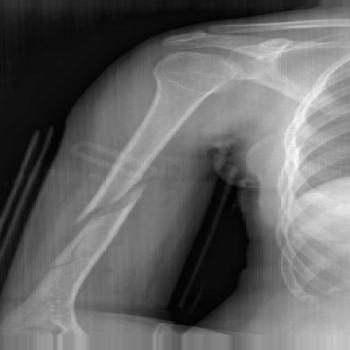Fracture: (61, 177, 157, 226), (42, 239, 108, 274)
